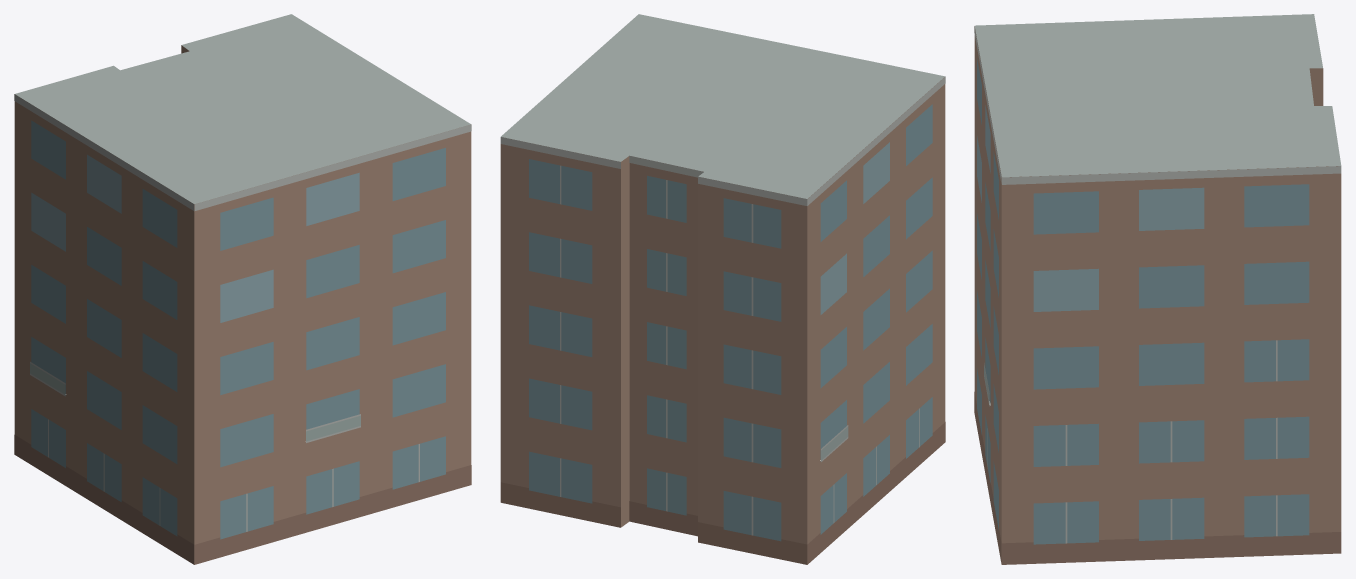
The model's file is survey-upis-32622597.glb.
3 views of the same model, side by side, from view 1: azimuth 30°, elevation 25°; view 2: azimuth 150°, elevation 25°; view 3: azimuth 270°, elevation 25° (orthographic). The views are drawn at different scales.
Visible parts, largest first — view 1: survey-upis-32622597.tmp; view 2: survey-upis-32622597.tmp; view 3: survey-upis-32622597.tmp.
Part boxes in pixels (x1,y1,x2,y2): survey-upis-32622597.tmp: (14,14,471,564); survey-upis-32622597.tmp: (500,14,945,564); survey-upis-32622597.tmp: (974,14,1341,564).
Bounding box in the file's own units: 11.27 × 12.45 × 10.69.
